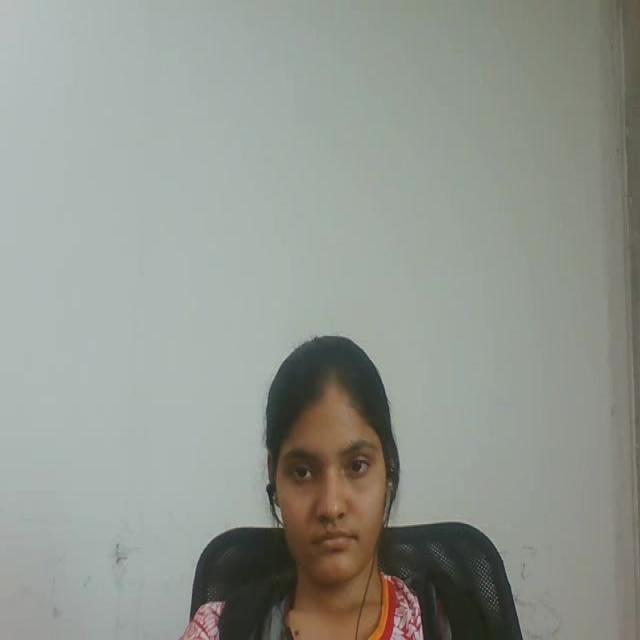Engaged: (239, 295, 425, 592)
